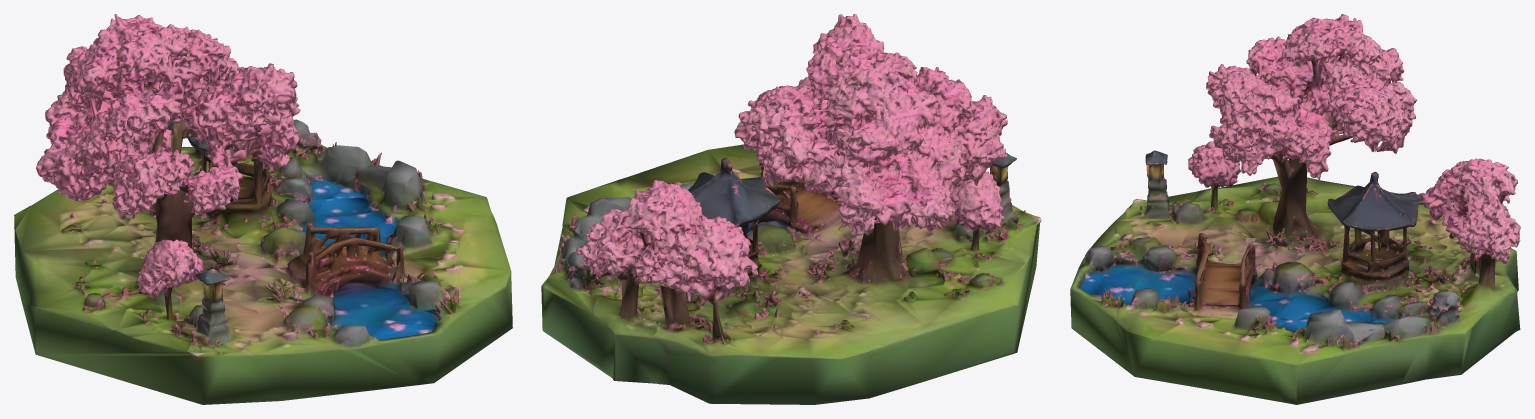
Rendered from sakura.glb.
The picture shows the model from 3 angles, left to right: view 1: azimuth 30°, elevation 25°; view 2: azimuth 150°, elevation 25°; view 3: azimuth 270°, elevation 25°; orthographic projection. The views are drawn at different scales.
Bounding box in the file's own units: 2 × 1.23 × 2.
Materials: 1 (1 with a texture image).
